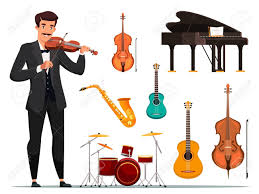Piano: (154, 2, 255, 87)
Saxophone: (71, 79, 152, 136)
Violin: (207, 80, 259, 182), (103, 7, 155, 91), (43, 27, 107, 83)
